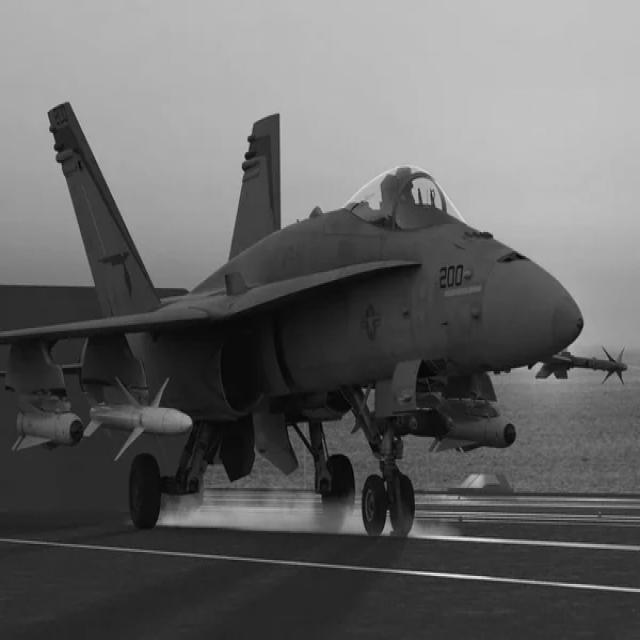Aircraft: (1, 103, 592, 552)
